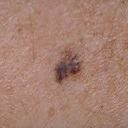Carcinoma: (49, 52, 81, 85)
